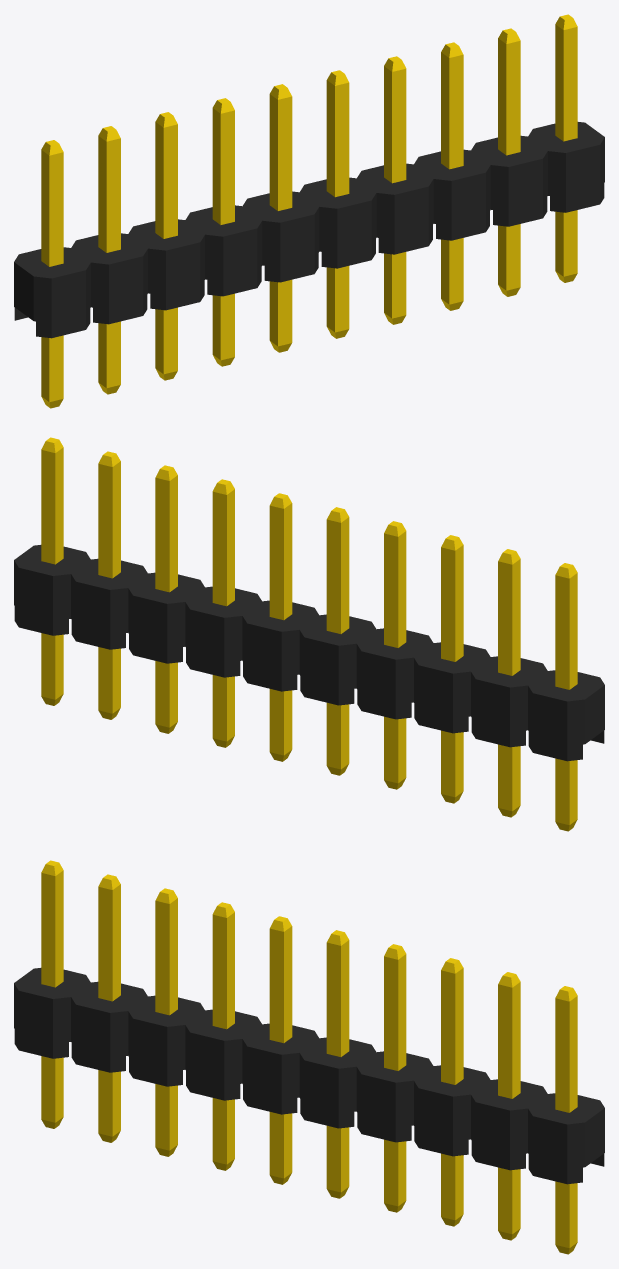
Rendered from PLS2-10.glb.
3 views of the same model, one above another, from view 1: azimuth 30°, elevation 25°; view 2: azimuth 150°, elevation 25°; view 3: azimuth 330°, elevation 25° (orthographic).
Parts seen in each view (by area): view 1: PLS2 (DS1025-01 CONNFLY); view 2: PLS2 (DS1025-01 CONNFLY); view 3: PLS2 (DS1025-01 CONNFLY).
Part boxes in pixels (<box>): PLS2 (DS1025-01 CONNFLY): <box>14,14,604,408</box>; PLS2 (DS1025-01 CONNFLY): <box>14,437,604,831</box>; PLS2 (DS1025-01 CONNFLY): <box>14,860,604,1254</box>.
Bounding box in the file's own units: 0.02 × 0.0088 × 0.002.
